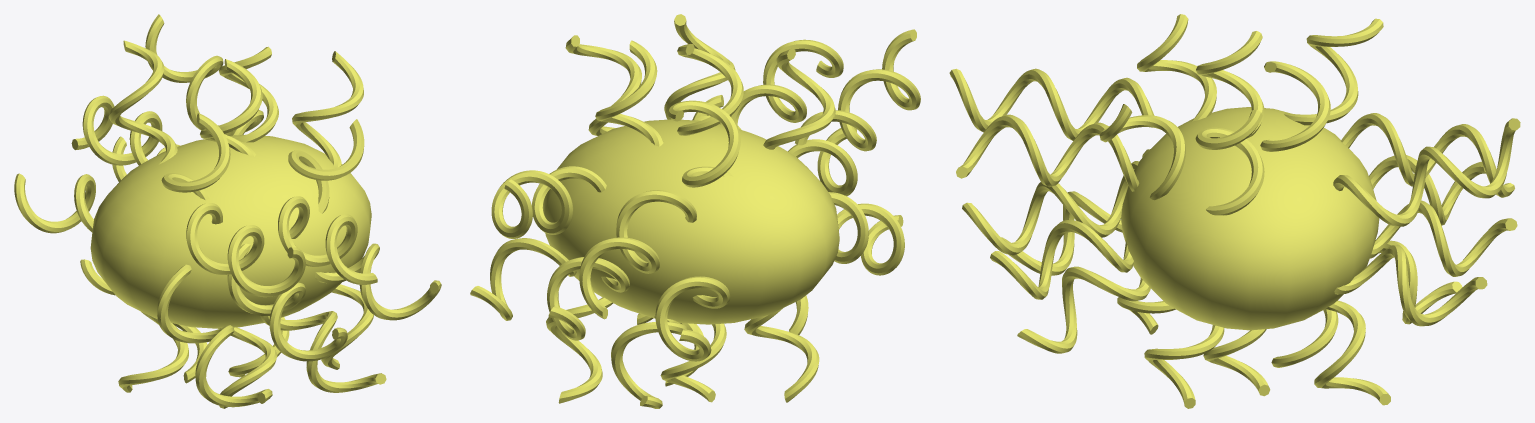
The model's file is yellowbacteria.fbx.
3 renders of one model, left to right at view 1: azimuth 30°, elevation 25°; view 2: azimuth 150°, elevation 25°; view 3: azimuth 270°, elevation 25°, orthographic. The views are drawn at different scales.
Parts seen in each view (by area): view 1: pHelix17; view 2: pHelix17; view 3: pHelix17.
Boxes of the visible parts, x1,y1,x2,y2 form: pHelix17: (14,14,441,408); pHelix17: (470,14,920,408); pHelix17: (949,14,1520,408).
Size of the model in its own units: 4.09 by 4.95 by 7.2.
